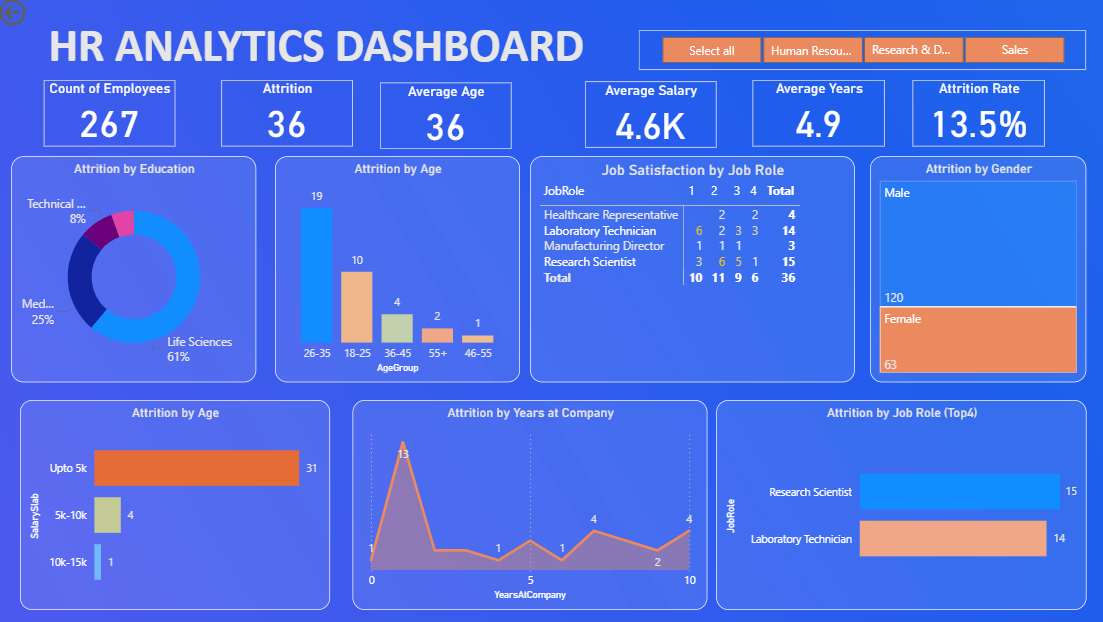

The page's visual inventory and layout, read from the dashboard file:
{"tool":"powerbi","page":{"name":"Page 1","canvas":[1280,720],"ordinal":0},"visuals":[{"type":"card","title":"Count of Employees","fields":{"Values":["CountNonNull(HR_Analytics.EmpID)"]},"box":[55.7,97.1,150,75.7],"z":0},{"type":"actionButton","box":[0,0,100,40],"z":1000},{"type":"card","title":"Attrition","fields":{"Values":["CountNonNull(HR_Analytics.AttritionCount)"]},"box":[258.6,97.1,150,75.7],"z":2000},{"type":"card","title":"Average Age","fields":{"Values":["Avg(HR_Analytics.Age)"]},"box":[440,100,150,75.7],"z":3000},{"type":"card","title":"Average Salary","fields":{"Values":["Avg(HR_Analytics.MonthlyIncome)"]},"box":[674.3,98.6,150,75.7],"z":4000},{"type":"card","title":"Average Years","fields":{"Values":["Avg(HR_Analytics.YearsAtCompany)"]},"box":[865.7,97.1,151.4,75.7],"z":5000},{"type":"card","title":"Attrition Rate","fields":{"Values":["HR_Analytics.AttritionRate"]},"box":[1048.6,97.1,151.4,75.7],"z":6000},{"type":"donutChart","title":"Attrition by Education","fields":{"Category":["HR_Analytics.EducationField"],"Y":["Sum(HR_Analytics.AttritionCount)"]},"box":[18.6,184.3,280,258.6],"z":7000},{"type":"columnChart","title":"Attrition by Age","fields":{"Category":["HR_Analytics.AgeGroup"],"Y":["Sum(HR_Analytics.AttritionCount)"]},"box":[320,184.3,280,258.6],"z":8000},{"type":"pivotTable","title":"Job Satisfaction by Job Role","fields":{"Columns":["HR_Analytics.JobSatisfaction"],"Values":["Sum(HR_Analytics.AttritionCount)"],"Rows":["HR_Analytics.JobRole"]},"box":[611.4,184.3,371.4,258.6],"z":9000},{"type":"barChart","title":"Attrition by Age","fields":{"Category":["HR_Analytics.SalarySlab"],"Y":["Sum(HR_Analytics.AttritionCount)"]},"box":[28.6,462.9,354.3,240],"z":10000},{"type":"barChart","title":"Attrition by Job Role (Top4)","fields":{"Category":["HR_Analytics.JobRole"],"Y":["Sum(HR_Analytics.AttritionCount)"]},"box":[824.3,462.9,422.9,240],"z":11000},{"type":"areaChart","title":"Attrition by Years at Company","fields":{"Category":["HR_Analytics.YearsAtCompany"],"Y":["Sum(HR_Analytics.AttritionCount)"]},"box":[408.6,462.9,405.7,240],"z":12000},{"type":"treemap","title":"Attrition by Gender","fields":{"Group":["HR_Analytics.Gender"],"Values":["Sum(HR_Analytics.AttritionCount)"]},"box":[1000,184.3,247.1,258.6],"z":13000},{"type":"slicer","fields":{"Values":["HR_Analytics.Department"]},"box":[735.7,40,511.4,45.7],"z":14000},{"type":"textbox","box":[28.6,20,677.1,77.1],"z":15000}]}

Visuals, with their boxes in screenshot pixels (x1, y1, x2, y2), scaled from the page's 1280x720 canvas onto the 1103x622 screenshot:
"Count of Employees" card: 48,84,177,149
actionButton: 0,0,86,35
"Attrition" card: 223,84,352,149
"Average Age" card: 379,86,508,152
"Average Salary" card: 581,85,710,151
"Average Years" card: 746,84,876,149
"Attrition Rate" card: 904,84,1034,149
"Attrition by Education" donutChart: 16,159,257,383
"Attrition by Age" columnChart: 276,159,517,383
"Job Satisfaction by Job Role" pivotTable: 527,159,847,383
"Attrition by Age" barChart: 25,400,330,607
"Attrition by Job Role (Top4)" barChart: 710,400,1075,607
"Attrition by Years at Company" areaChart: 352,400,702,607
"Attrition by Gender" treemap: 862,159,1075,383
slicer - HR_Analytics.Department: 634,35,1075,74
textbox: 25,17,608,84
